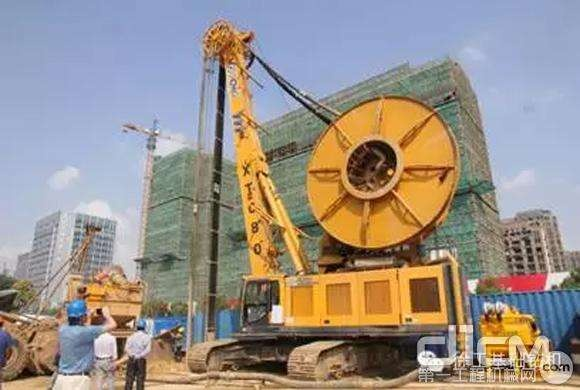blue: (63, 296, 90, 325), (135, 319, 146, 334)
